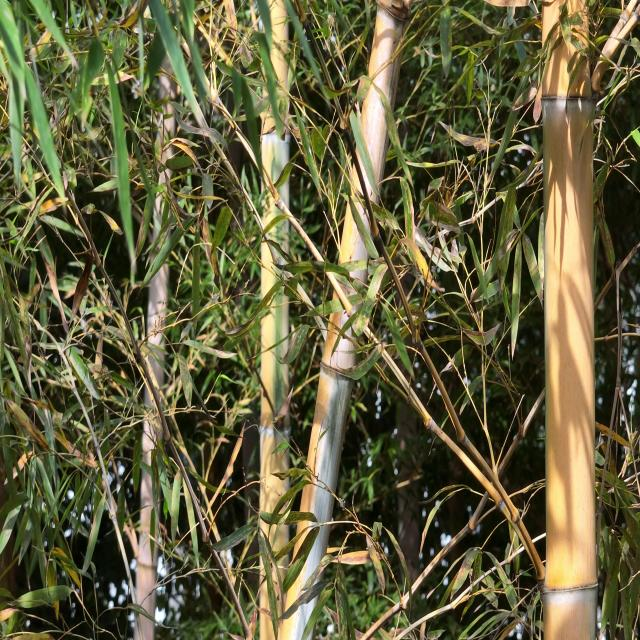Bamboo-shoots: (540, 0, 597, 640), (260, 0, 290, 640)
